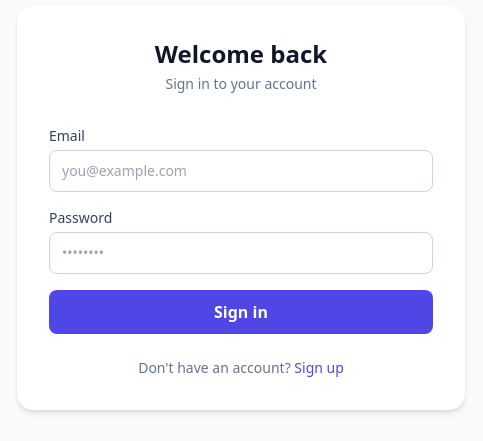
Test: LoginPage › shows an invalid email format error for a malformed email
Type "not-an-email" into the field labelled "Email". click: (241,171)
box: x1=49 y1=150 x2=433 y2=192
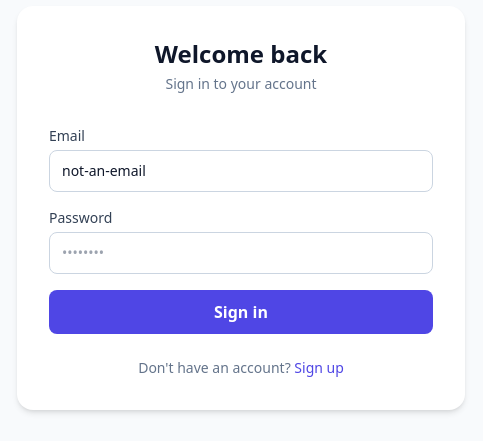
Type "password123" into the password field labelled "Password". click: (241,253)
box: x1=49 y1=232 x2=433 y2=274
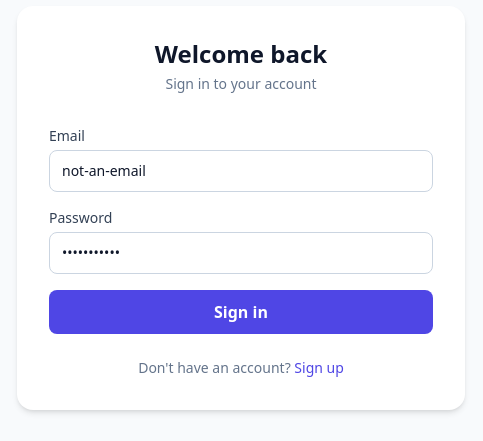
Click the button "Sign in". click: (241,312)
box: x1=49 y1=290 x2=433 y2=334
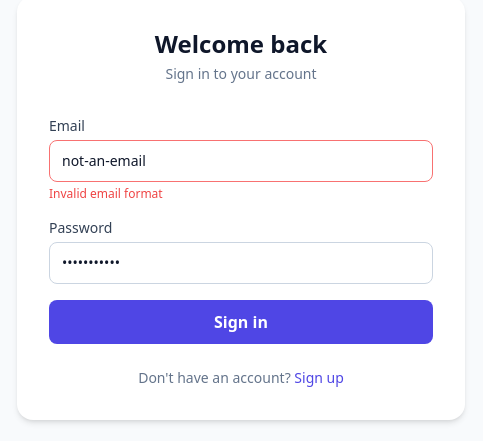
Expected: the text "Invalid email format" is shown, x1=49 y1=185 x2=163 y2=202
